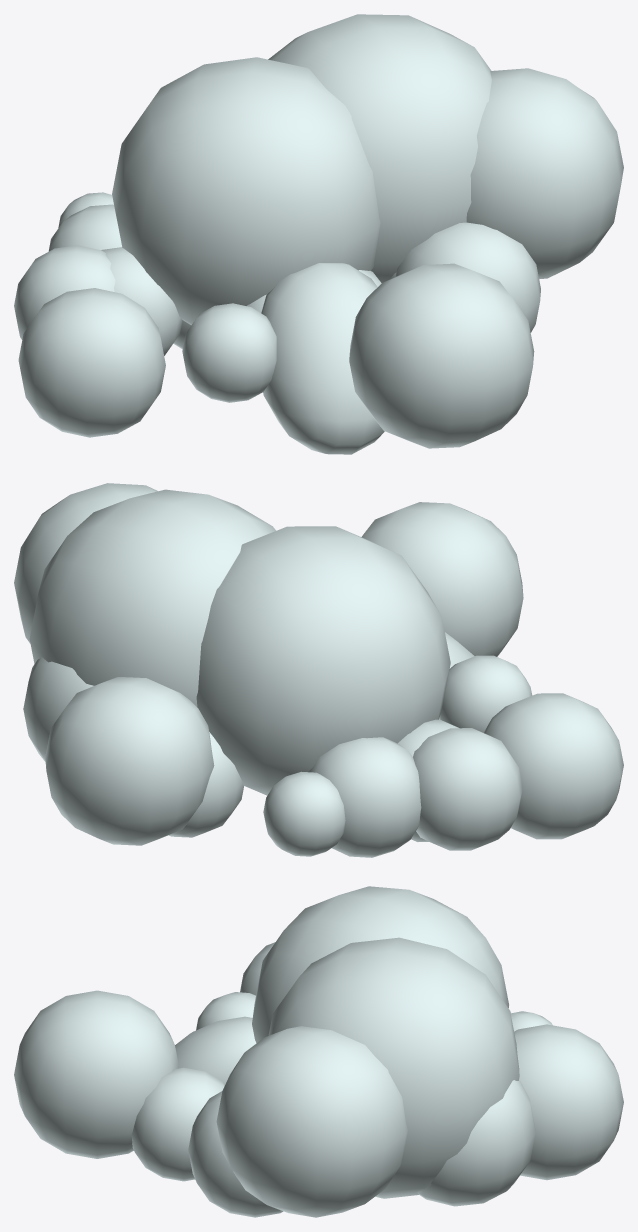
Rendered from cloud2.fbx.
The picture shows the model from 3 angles, top to bottom: view 1: azimuth 30°, elevation 25°; view 2: azimuth 150°, elevation 25°; view 3: azimuth 270°, elevation 25°; orthographic projection. The views are drawn at different scales.
Parts seen in each view (by area): view 1: Cloud2; view 2: Cloud2; view 3: Cloud2.
Boxes of the visible parts, bbox=[...] form: Cloud2: bbox=[14, 14, 623, 454]; Cloud2: bbox=[14, 483, 623, 857]; Cloud2: bbox=[14, 886, 623, 1217].
Size of the model in its own units: 921 by 440 by 911.
